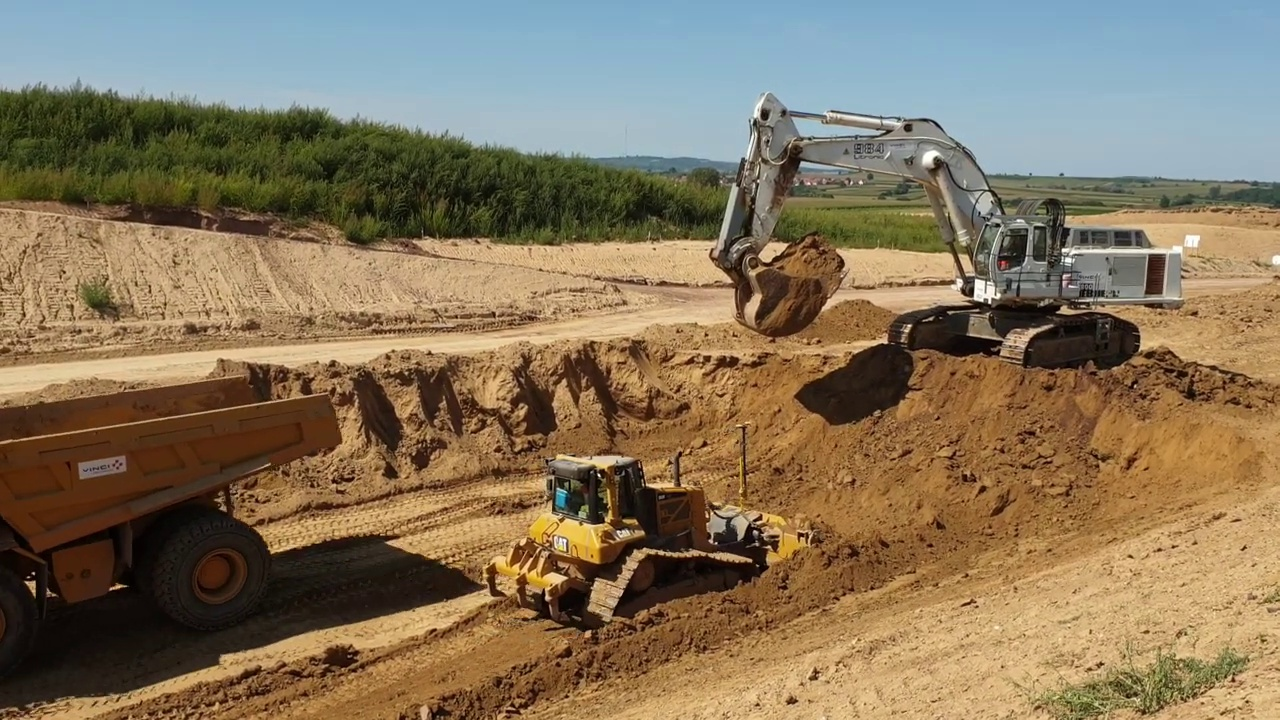bulldozer: (478, 417, 826, 631)
excavator: (702, 89, 1190, 375)
worker: (2, 372, 345, 679)
